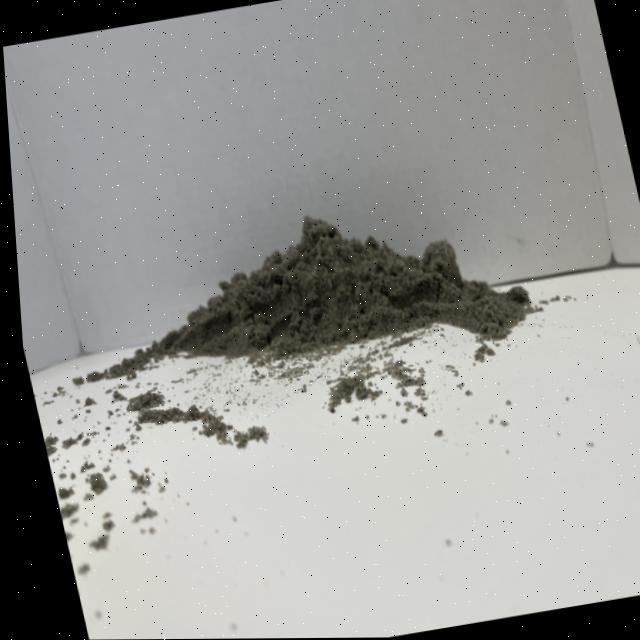sand: (116, 173, 515, 391)
